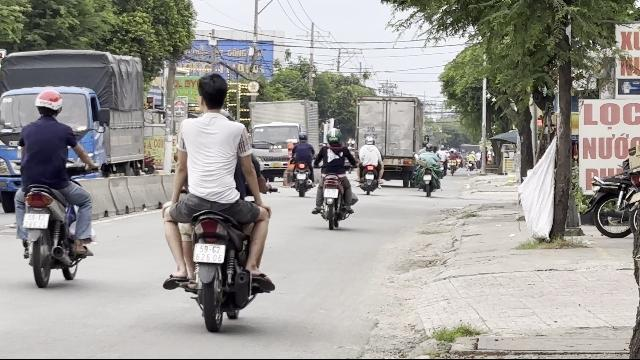helmet: (34, 88, 62, 118)
licenseplate: (193, 243, 224, 263), (23, 214, 49, 228)
motorcyclist: (158, 71, 276, 330), (8, 88, 96, 286)
nohelmet: (194, 72, 230, 112)
